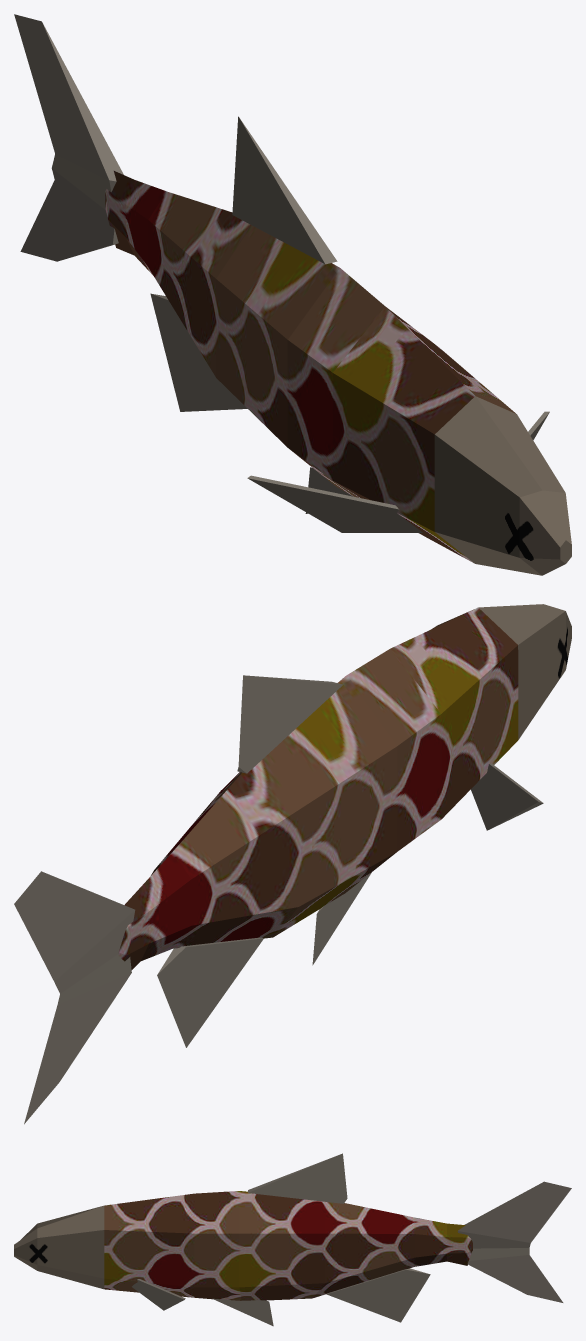
The model's file is Cooked Fish.fbx.
3 renders of one model, top to bottom at view 1: azimuth 30°, elevation 25°; view 2: azimuth 150°, elevation 25°; view 3: azimuth 270°, elevation 25°, orthographic. The views are drawn at different scales.
Visible parts, largest first — view 1: fin5; view 2: fin5; view 3: fin5.
Part boxes in pixels (x1,y1,x2,y2): fin5: (14,14,571,575); fin5: (14,604,571,1124); fin5: (14,1153,571,1326).
Size of the model in its own units: 18.67 by 20.45 by 59.57.
